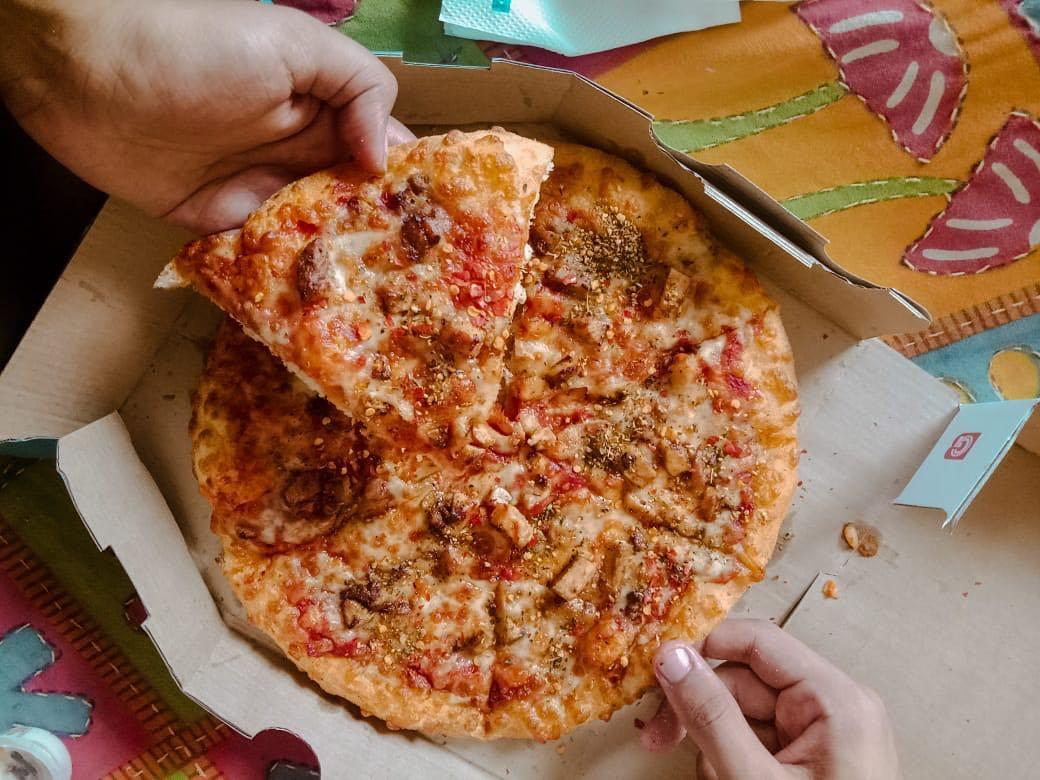Chicken: (272, 462, 342, 513), (478, 497, 540, 550), (546, 550, 596, 600), (610, 550, 647, 610), (463, 422, 527, 456), (660, 445, 690, 480)
Pizza: (198, 140, 801, 742)
